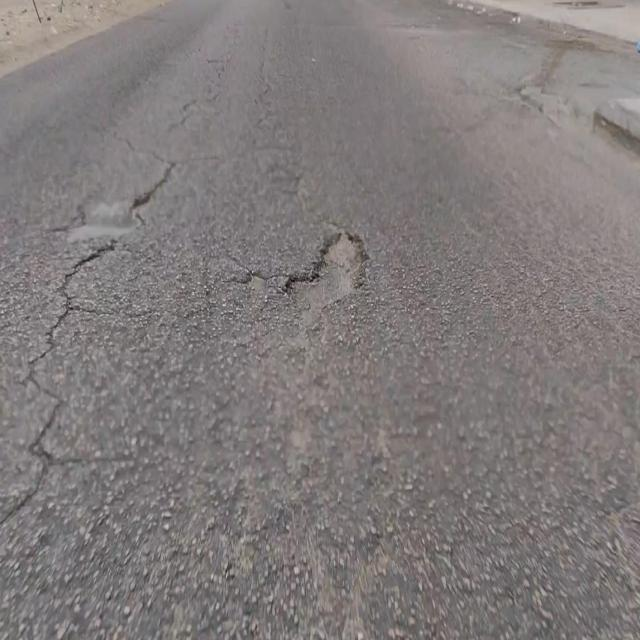Potholes: (281, 229, 370, 311)
